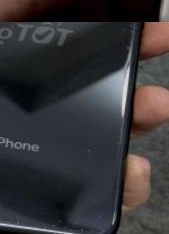scratch: (28, 210, 93, 234), (82, 208, 114, 234), (117, 22, 138, 36), (75, 162, 92, 179), (103, 169, 115, 185), (83, 136, 93, 152), (14, 216, 26, 229), (122, 41, 133, 55)
